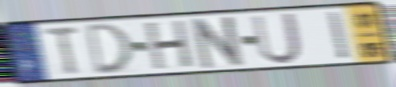D: (84, 21, 134, 77)
H: (144, 18, 195, 72)
I: (326, 9, 353, 62)
N: (190, 14, 248, 71)
T: (42, 24, 83, 77)
U: (250, 11, 305, 66)
